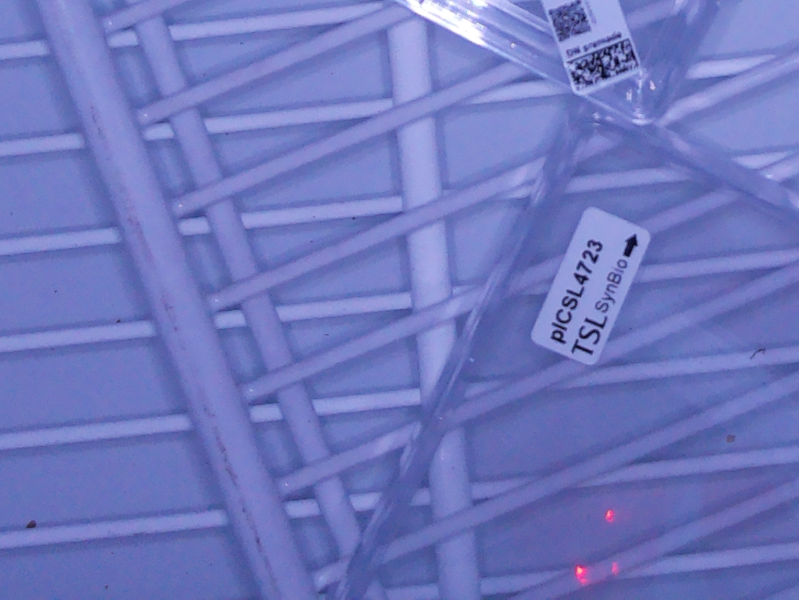plate: (338, 101, 799, 600), (392, 1, 723, 128)
